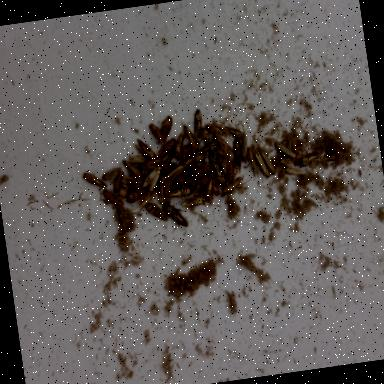pbw: (162, 200, 190, 230), (140, 164, 166, 195), (154, 168, 174, 205), (192, 138, 220, 162), (155, 115, 176, 146), (167, 168, 193, 192), (144, 198, 168, 224), (134, 188, 160, 212), (218, 176, 246, 198), (134, 138, 158, 162), (209, 157, 226, 189), (156, 137, 178, 161), (101, 186, 123, 210), (254, 148, 270, 180), (166, 184, 196, 201), (82, 170, 107, 190), (274, 138, 296, 160), (190, 108, 206, 138), (190, 174, 210, 198), (149, 121, 167, 147), (182, 122, 198, 150), (261, 150, 277, 178), (171, 131, 188, 157), (124, 186, 148, 204), (213, 134, 232, 156), (270, 152, 296, 168), (297, 154, 323, 170), (163, 164, 186, 182), (246, 146, 260, 174), (204, 121, 227, 138), (233, 140, 245, 172), (110, 170, 126, 194), (216, 154, 228, 186), (123, 157, 141, 178), (190, 162, 212, 179), (202, 178, 216, 203), (181, 195, 206, 209), (225, 156, 237, 184), (322, 148, 346, 162), (238, 132, 249, 162), (140, 155, 162, 170), (101, 167, 121, 183), (284, 164, 305, 178), (226, 124, 243, 141), (127, 154, 147, 168), (122, 175, 143, 188), (175, 146, 191, 162), (114, 186, 130, 202), (181, 153, 196, 170), (200, 125, 210, 146)
